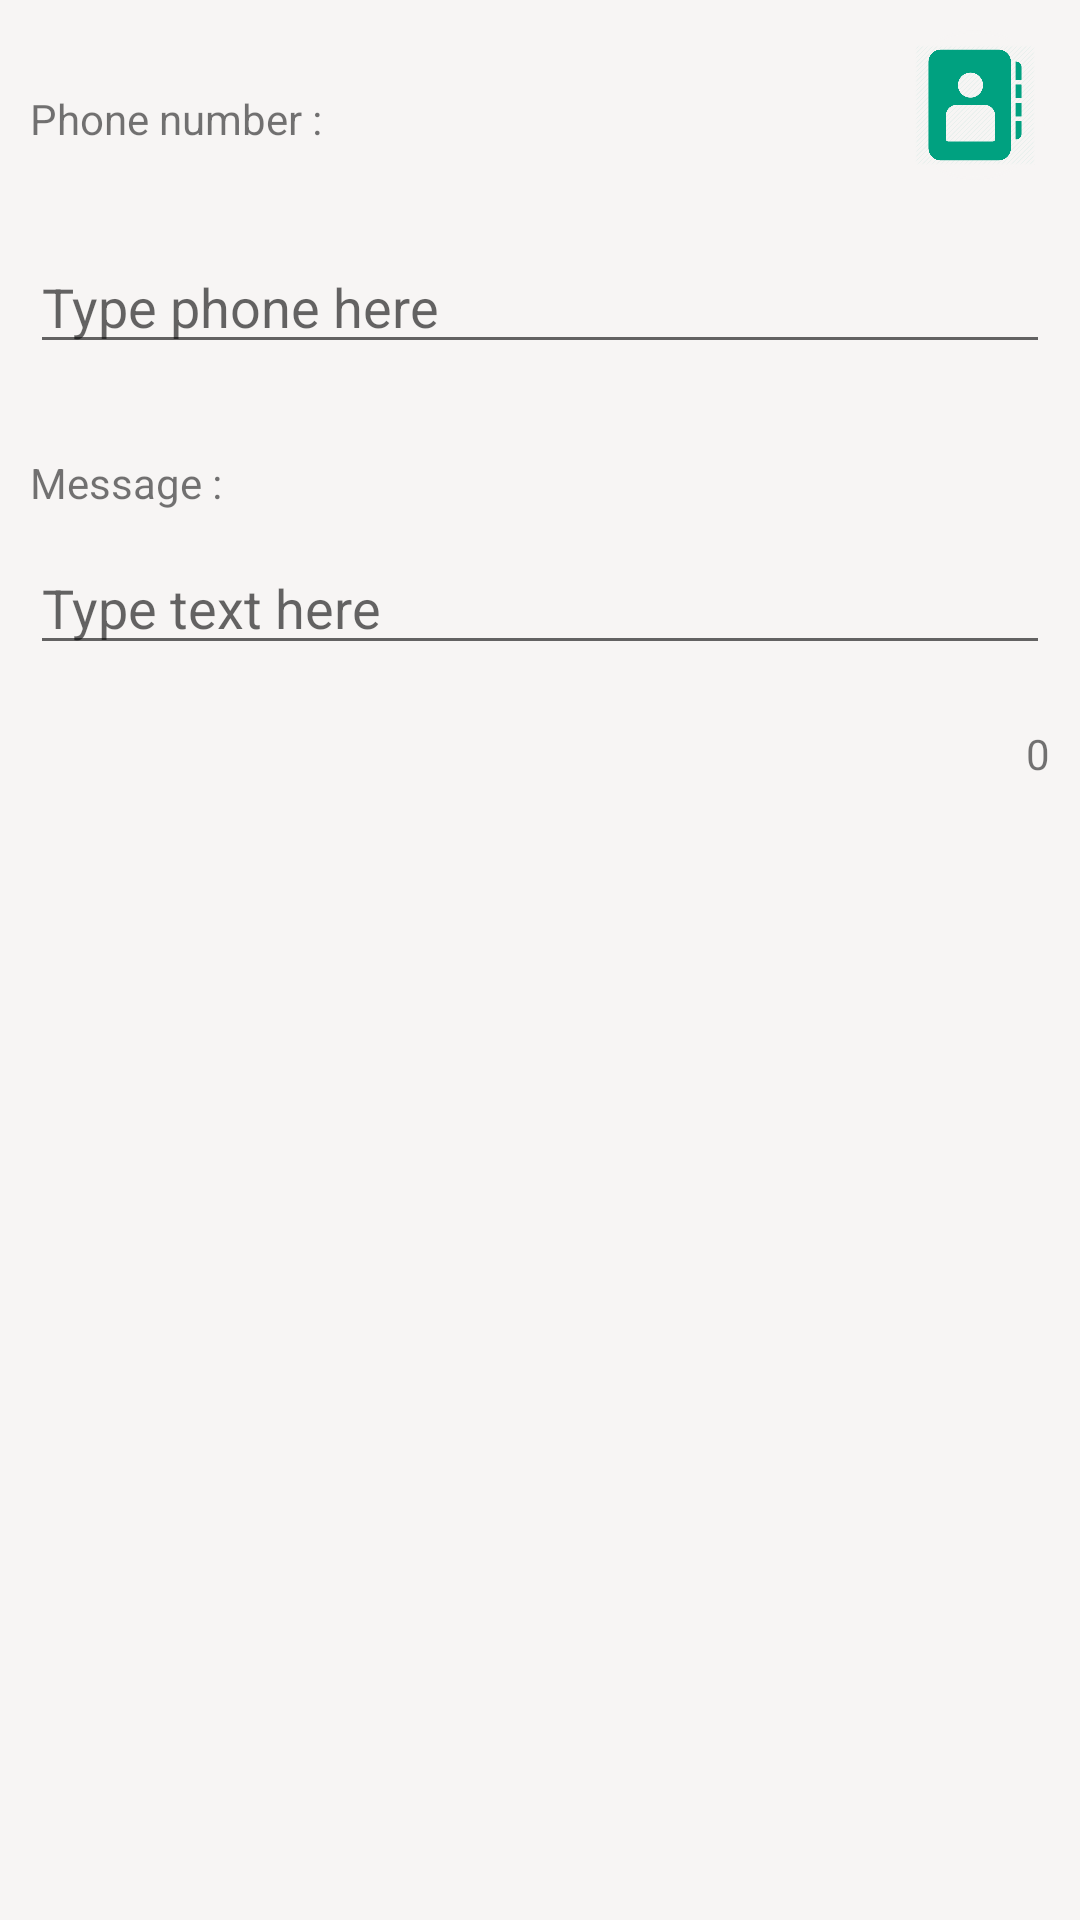

Icons on this 1080 x 1920 Android screen, each with the point to tap as (x=x, y=y):
phonebook: (x=975, y=105)
